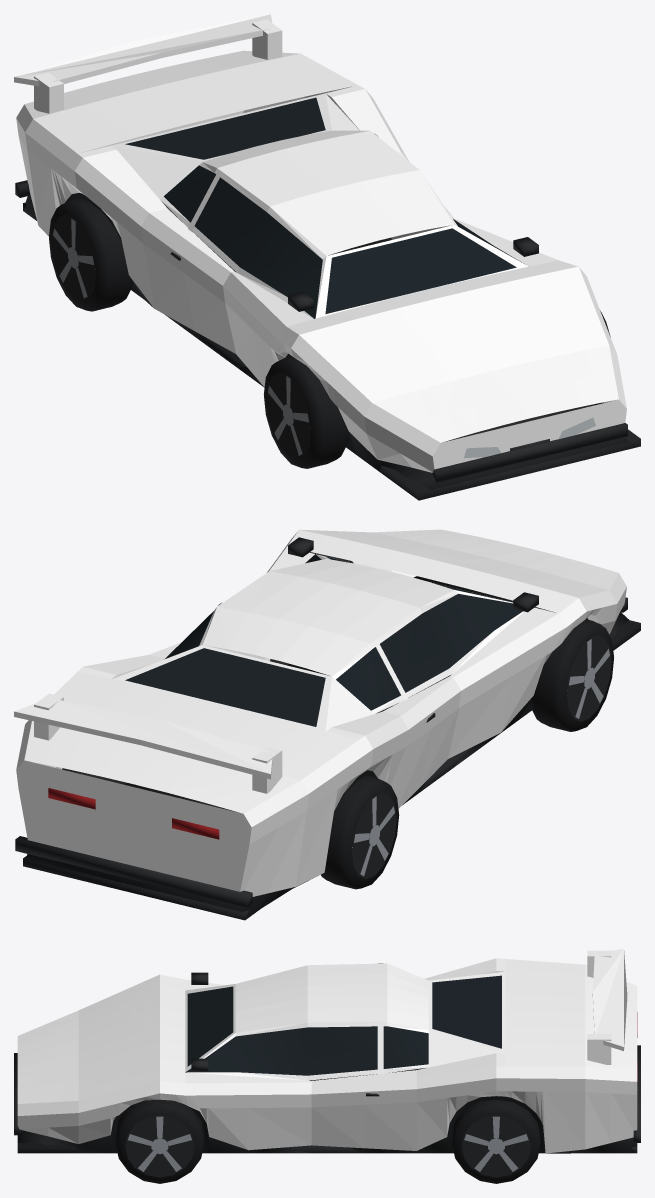
The model's file is vantra_estilete.glb.
3 views of the same model, one above another, from view 1: azimuth 30°, elevation 25°; view 2: azimuth 150°, elevation 25°; view 3: azimuth 270°, elevation 25° (orthographic). The views are drawn at different scales.
Visible parts, largest first — view 1: Body_Paint, Body_Details, Mount_RearLeft_Wheel_Details, Mount_FrontLeft_Wheel_Details; view 2: Body_Paint, Body_Details, Mount_FrontLeft_Wheel_Details, Mount_RearLeft_Wheel_Details; view 3: Body_Paint, Body_Details, Mount_FrontRight_Wheel_Details, Mount_RearRight_Wheel_Details.
Part boxes in pixels (x1,y1,x2,y2): Body_Paint: [14, 14, 626, 472]; Body_Details: [15, 97, 640, 500]; Mount_RearLeft_Wheel_Details: [49, 198, 132, 311]; Mount_FrontLeft_Wheel_Details: [263, 356, 348, 468]; Body_Paint: [14, 529, 626, 896]; Body_Details: [15, 537, 640, 920]; Mount_FrontLeft_Wheel_Details: [530, 619, 613, 731]; Mount_RearLeft_Wheel_Details: [321, 775, 399, 889]; Body_Paint: [17, 949, 637, 1153]; Body_Details: [14, 972, 640, 1153]; Mount_FrontRight_Wheel_Details: [115, 1099, 204, 1183]; Mount_RearRight_Wheel_Details: [452, 1099, 540, 1183].
Bounding box in the file's own units: 2.05 × 1.15 × 4.72.
2 materials, 1 textured.
